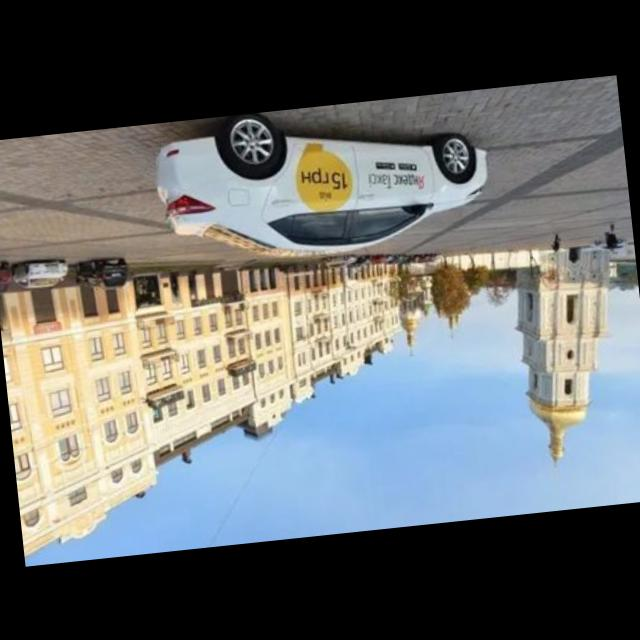taxi: (150, 90, 498, 274)
